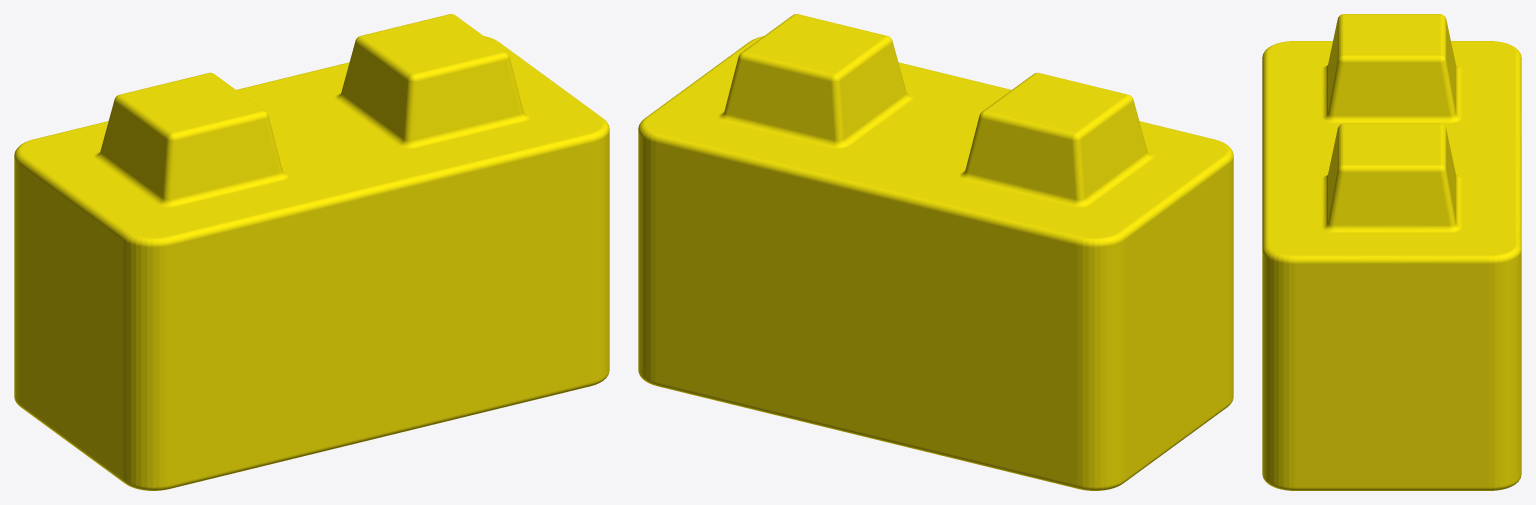
3 views of the same model, side by side, from view 1: azimuth 30°, elevation 25°; view 2: azimuth 150°, elevation 25°; view 3: azimuth 270°, elevation 25° (orthographic). The views are drawn at different scales.
Visible parts, largest first — view 1: am-4018 Stone; view 2: am-4018 Stone; view 3: am-4018 Stone.
Boxes of the visible parts, box(x1,y1,x2,y2) form: am-4018 Stone: box(14, 14, 609, 490); am-4018 Stone: box(638, 14, 1233, 490); am-4018 Stone: box(1262, 14, 1521, 490).
Size of the model in its own units: 20.32 by 12.7 by 10.16.
